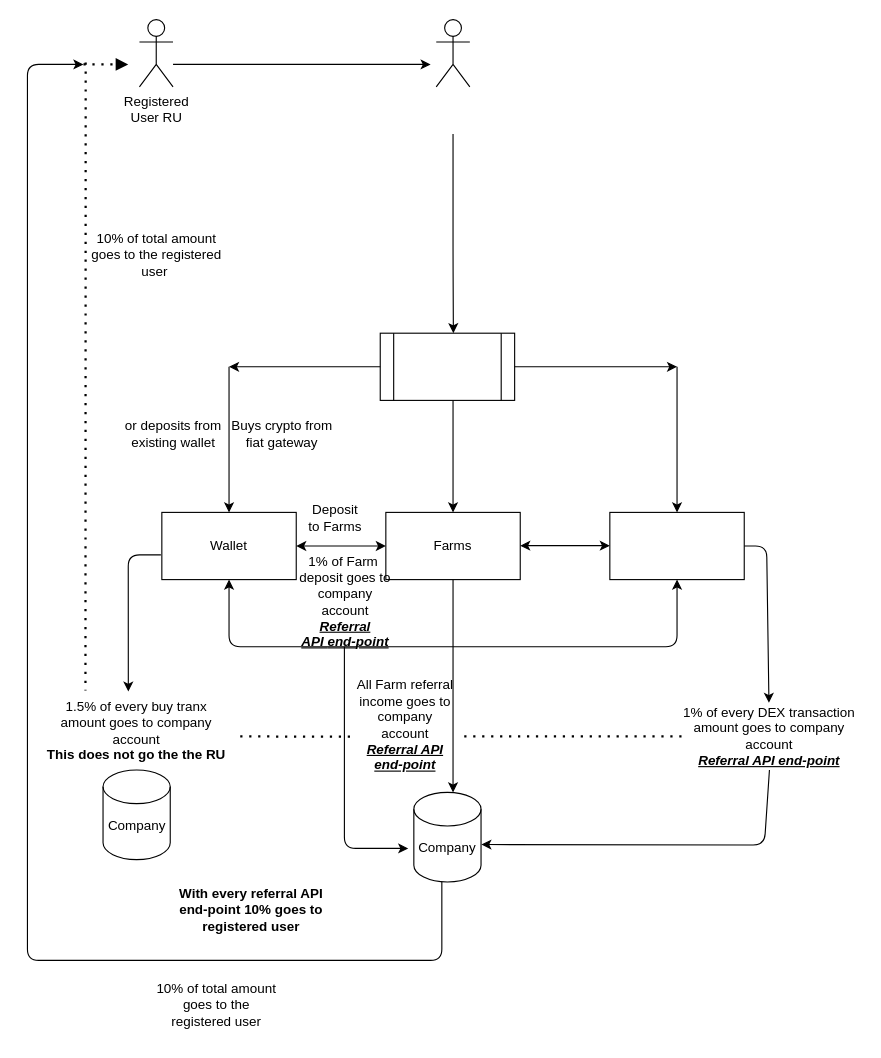
This 881x1058 diagram has some shape labels left out. The shapes that lost their labels are listed below. From the top down, each one's box as (x1, y1, x2, y2) in pixels, then its label:
(435, 18, 470, 87): Referred User RF
(379, 332, 515, 400): KRYTO ARMY
(609, 511, 744, 580): DEX
